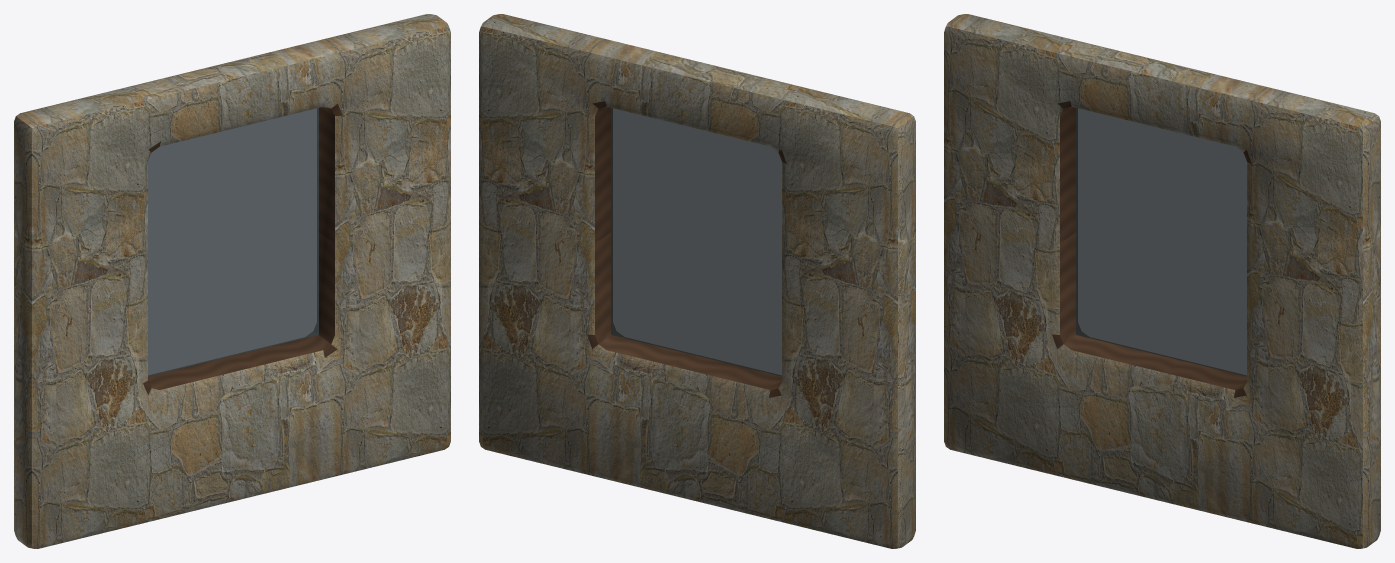
The model's file is wall_basic.glb.
3 renders of one model, left to right at view 1: azimuth 30°, elevation 25°; view 2: azimuth 150°, elevation 25°; view 3: azimuth 330°, elevation 25°, orthographic.
Parts seen in each view (by area): view 1: wall_basic_0; view 2: wall_basic_0; view 3: wall_basic_0.
Boxes of the visible parts, x1=… form: wall_basic_0: x1=14, y1=14, x2=450, y2=548; wall_basic_0: x1=479, y1=14, x2=915, y2=548; wall_basic_0: x1=944, y1=14, x2=1380, y2=548.
Bounding box in the file's own units: 2.8 × 2.7 × 0.24.
3 materials, 2 textured.
